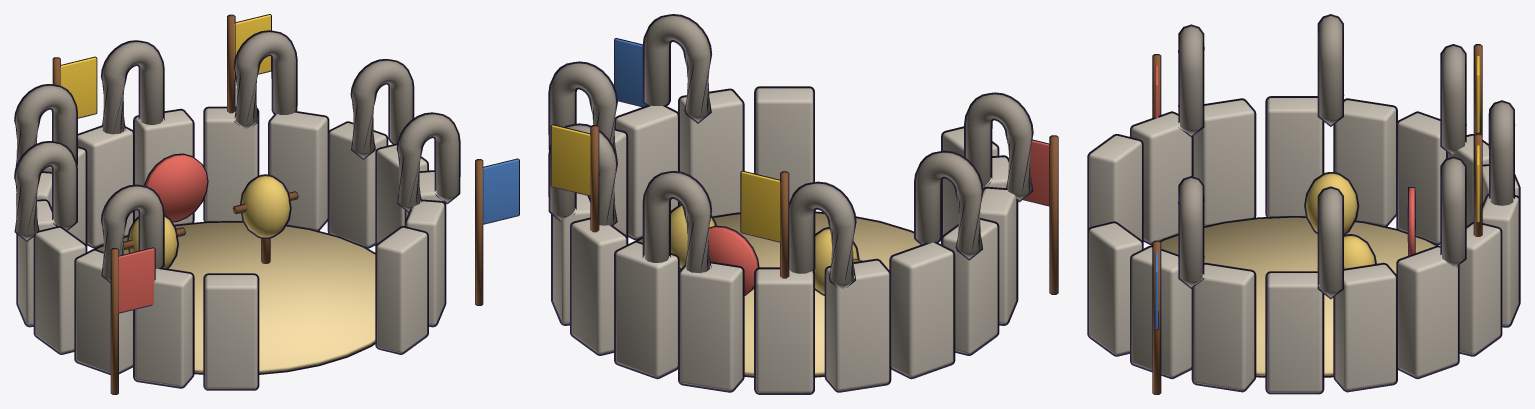
The model's file is arena_3.glb.
3 views of the same model, side by side, from view 1: azimuth 30°, elevation 25°; view 2: azimuth 150°, elevation 25°; view 3: azimuth 270°, elevation 25° (orthographic). The views are drawn at different scales.
Visible parts, largest first — view 1: sand, box.012, box.011, box.013, box.002, box.001, box.009, box.003, box.010, arch.006, arch.004, arch.001 (+21 smaller); view 2: box.008, box.005, box.007, box.004, box.006, box.014, box.013, box.003, arch.004, arch.006, box.009, sand (+21 smaller); view 3: sand, box.015, box.001, box.002, box, box.010, box.008, box.009, box.014, box.013, box.011, box.007 (+18 smaller).
Part boxes in pixels (x1=…): sand: x1=94, y1=221, x2=375, y2=374; box.012: x1=203, y1=273, x2=259, y2=390; box.011: x1=133, y1=267, x2=194, y2=388; box.013: x1=375, y1=226, x2=428, y2=354; box.002: x1=268, y1=111, x2=329, y2=230; box.001: x1=327, y1=121, x2=388, y2=248; box.009: x1=33, y1=226, x2=87, y2=354; box.003: x1=203, y1=106, x2=259, y2=221; box.010: x1=74, y1=249, x2=132, y2=374; arch.006: x1=396, y1=112, x2=460, y2=212; arch.004: x1=14, y1=141, x2=77, y2=241; arch.001: x1=233, y1=30, x2=297, y2=129; box.008: x1=889, y1=241, x2=955, y2=379; box.005: x1=678, y1=261, x2=744, y2=392; box.007: x1=824, y1=258, x2=891, y2=392; box.004: x1=614, y1=241, x2=679, y2=379; box.006: x1=754, y1=267, x2=814, y2=394; box.014: x1=678, y1=88, x2=744, y2=216; box.013: x1=754, y1=86, x2=814, y2=201; box.003: x1=570, y1=217, x2=628, y2=355; arch.004: x1=914, y1=150, x2=983, y2=260; arch.006: x1=642, y1=14, x2=712, y2=123; box.009: x1=941, y1=218, x2=999, y2=355; sand: x1=635, y1=211, x2=920, y2=377; sand: x1=1151, y1=216, x2=1438, y2=377; box.015: x1=1191, y1=262, x2=1256, y2=392; box.001: x1=1333, y1=262, x2=1397, y2=392; box.002: x1=1396, y1=245, x2=1459, y2=379; box: x1=1265, y1=271, x2=1324, y2=394; box.010: x1=1193, y1=98, x2=1256, y2=225; box.008: x1=1333, y1=98, x2=1397, y2=226; box.009: x1=1265, y1=96, x2=1324, y2=216; box.014: x1=1130, y1=245, x2=1191, y2=379; box.013: x1=1087, y1=221, x2=1143, y2=356; box.011: x1=1130, y1=111, x2=1193, y2=244; box.007: x1=1396, y1=111, x2=1445, y2=244.
Size of the model in its own units: 5.54 by 2.53 by 4.71.
